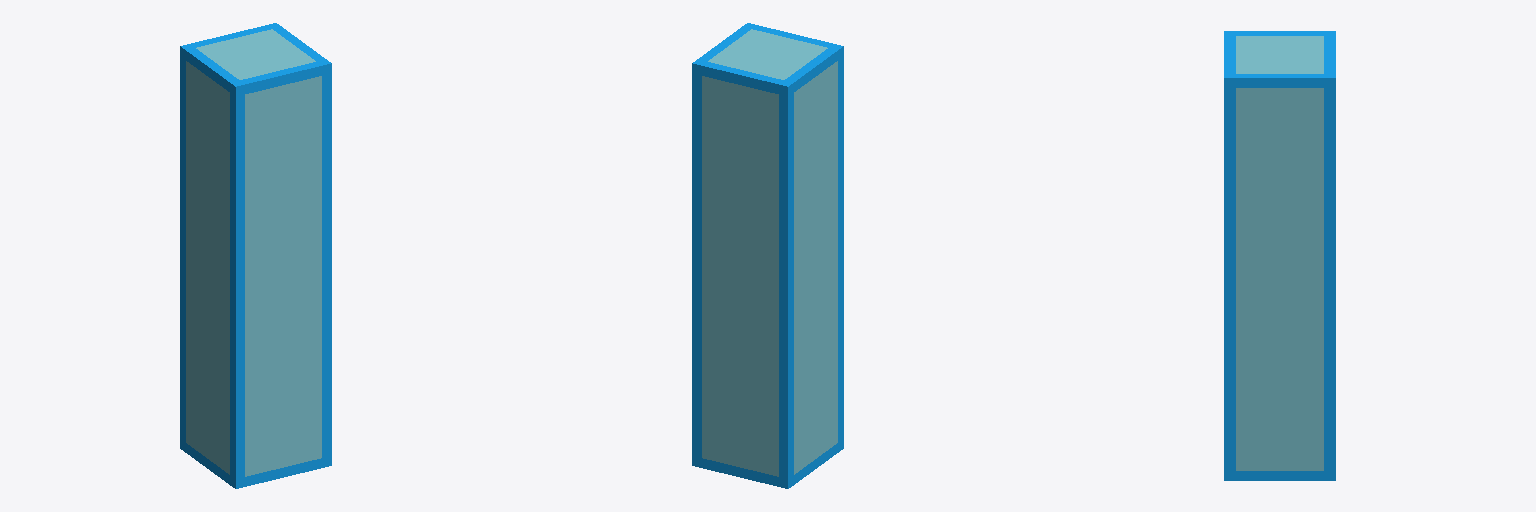
3 views of the same model, side by side, from view 1: azimuth 30°, elevation 25°; view 2: azimuth 150°, elevation 25°; view 3: azimuth 270°, elevation 25° (orthographic).
Size of the model in its own units: 10 by 40 by 10.
Materials: 1 (1 with a texture image).